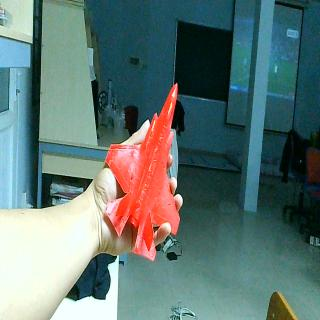Jet: (104, 82, 181, 263)
